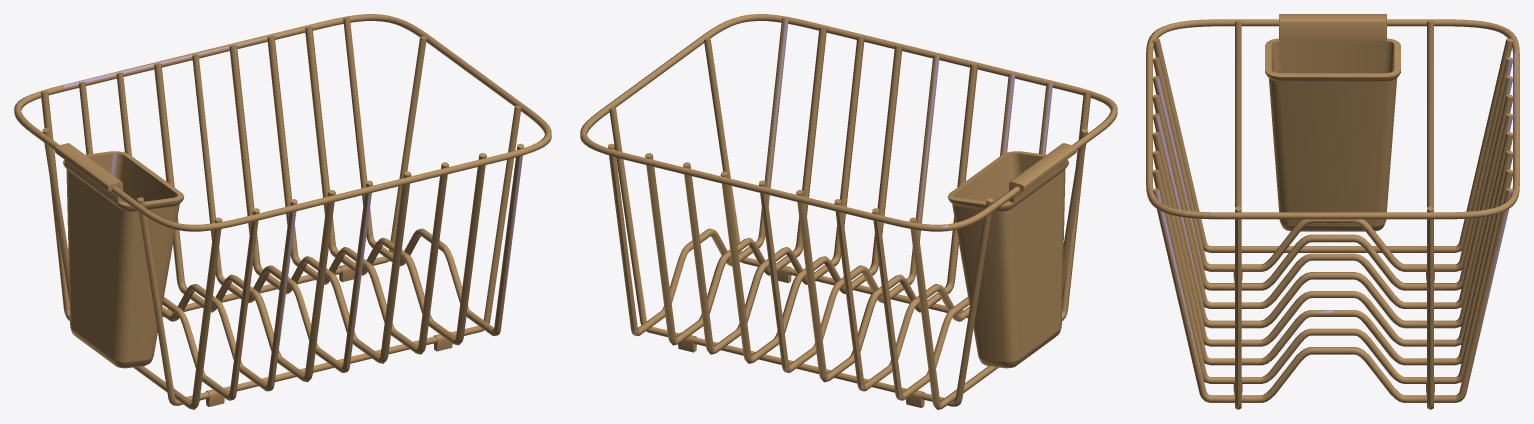
The picture shows the model from 3 angles, left to right: view 1: azimuth 30°, elevation 25°; view 2: azimuth 150°, elevation 25°; view 3: azimuth 270°, elevation 25°; orthographic projection.
Parts seen in each view (by area): view 1: 000-0-0; view 2: 000-0-0; view 3: 000-0-0.
Boxes of the visible parts, left/top/right/bottom form: 000-0-0: left=14, top=14, right=551, bottom=409; 000-0-0: left=580, top=14, right=1117, bottom=409; 000-0-0: left=1146, top=14, right=1519, bottom=409.
Size of the model in its own units: 45.88 by 24.8 by 36.61.
